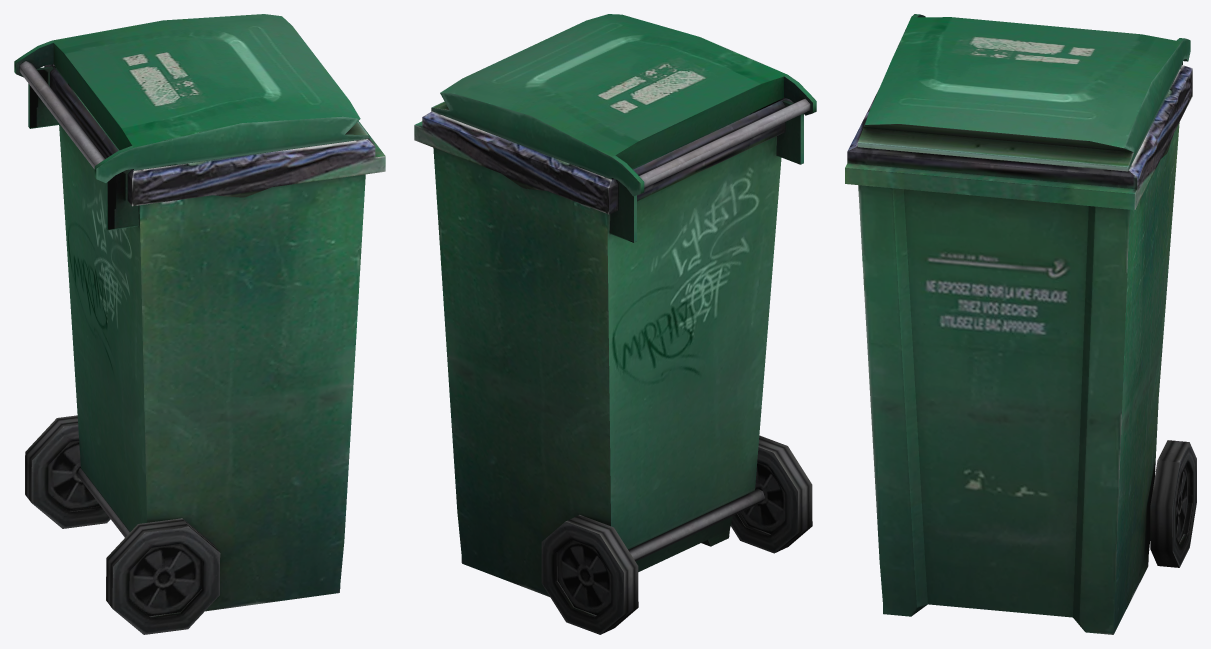
File: poubelle_0.glb
3 renders of one model, left to right at view 1: azimuth 30°, elevation 25°; view 2: azimuth 150°, elevation 25°; view 3: azimuth 270°, elevation 25°, orthographic. The views are drawn at different scales.
Visible parts, largest first — view 1: SM_TrashBin_Material #2_0; view 2: SM_TrashBin_Material #2_0; view 3: SM_TrashBin_Material #2_0.
Boxes of the visible parts, x1=… form: SM_TrashBin_Material #2_0: x1=14, y1=14, x2=385, y2=634; SM_TrashBin_Material #2_0: x1=414, y1=14, x2=816, y2=634; SM_TrashBin_Material #2_0: x1=845, y1=14, x2=1196, y2=634.
Size of the model in its own units: 0.7162 by 1.11 by 0.6904.
Materials: 1 (1 with a texture image).
